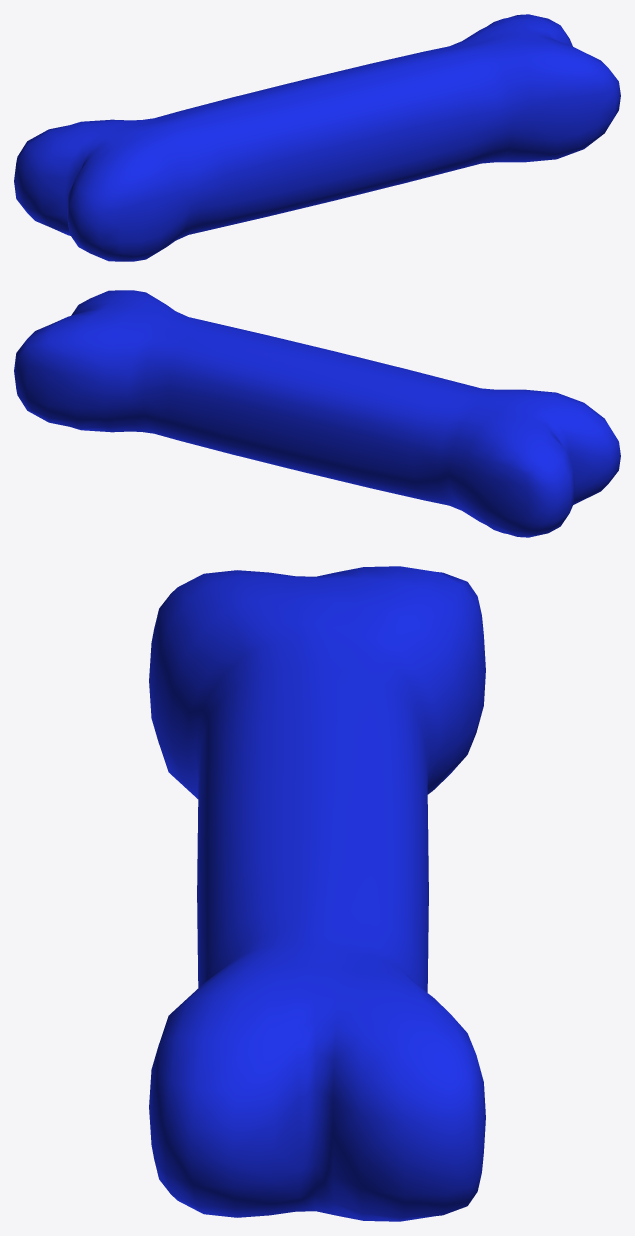
File: koiranlelu.fbx
3 renders of one model, top to bottom at view 1: azimuth 30°, elevation 25°; view 2: azimuth 150°, elevation 25°; view 3: azimuth 270°, elevation 25°, orthographic. The views are drawn at different scales.
Parts seen in each view (by area): view 1: luu; view 2: luu; view 3: luu.
Boxes of the visible parts, x1,y1,x2,y2 form: luu: (14, 14, 620, 261); luu: (14, 290, 620, 537); luu: (149, 566, 485, 1221).
Size of the model in its own units: 33.5 by 6.52 by 8.92.
